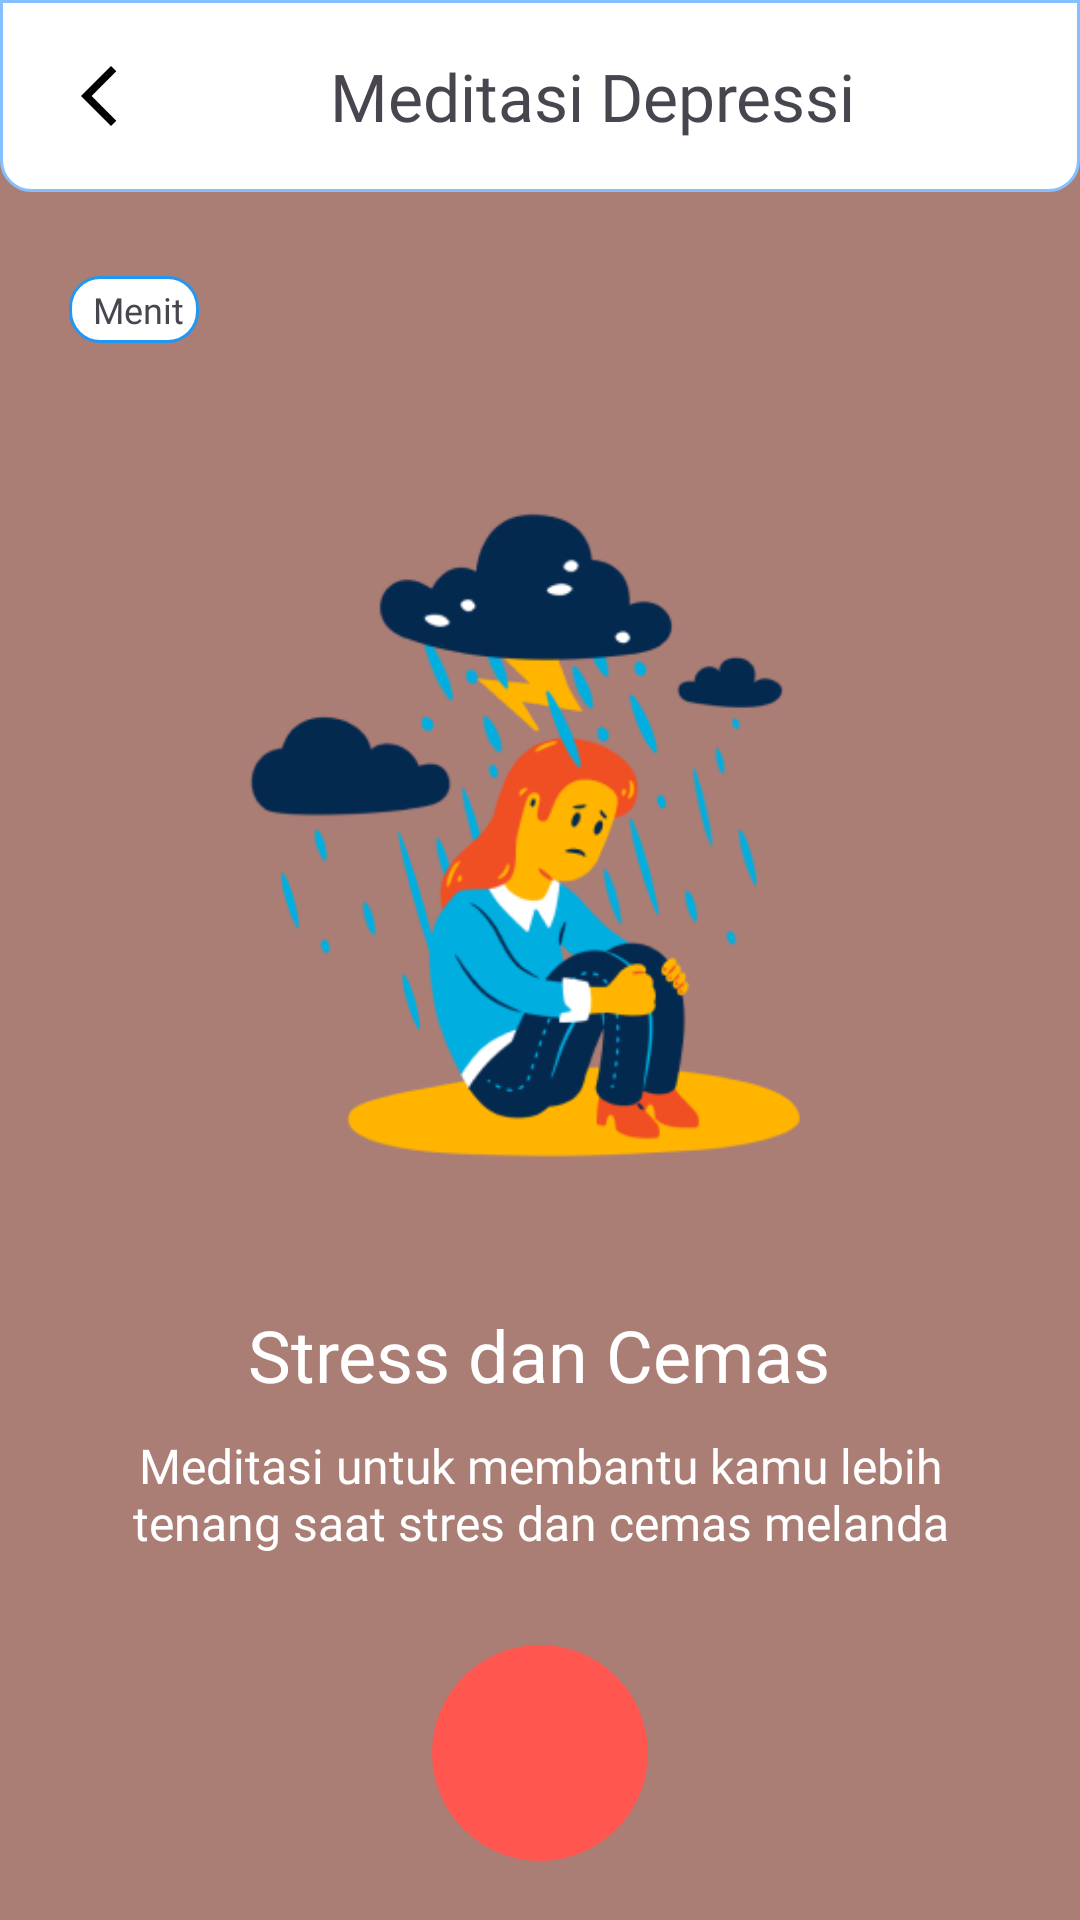

Named icons in this screenshot (1080×1920) and their centers, point (x, y):
kembali: point (98, 96)
